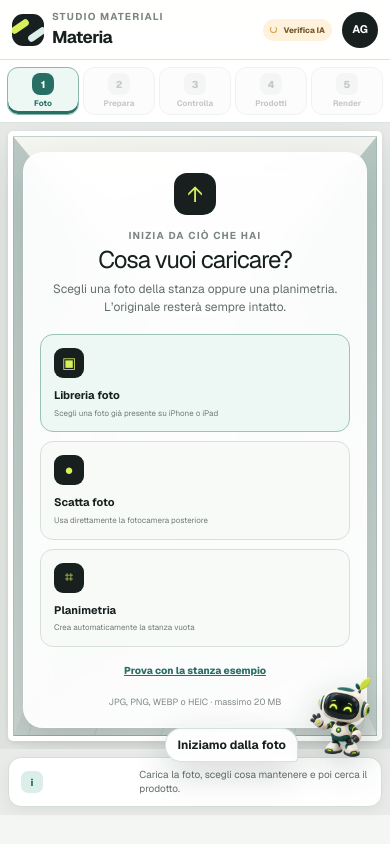
Test: RoomStudio › asks for a manual target when Terra sees furniture but Grok has no safe polygon
Click the button "Prova con la stanza esempio". click: click(195, 670)
box: [113,656,277,685]
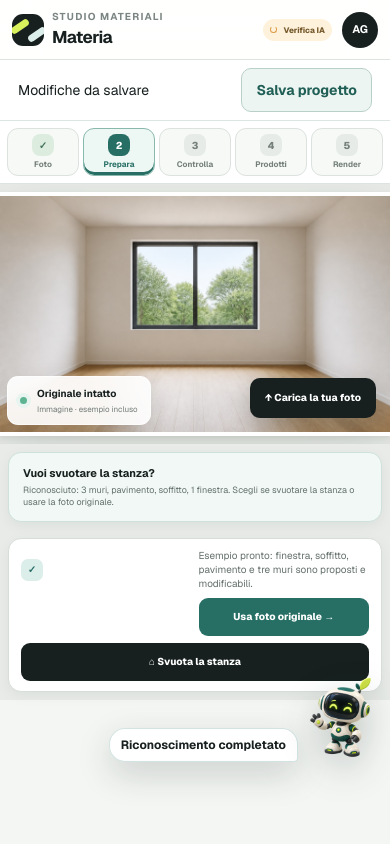
Click the button "⌂ Svuota la stanza". click: click(195, 662)
box: [21,642,369,680]
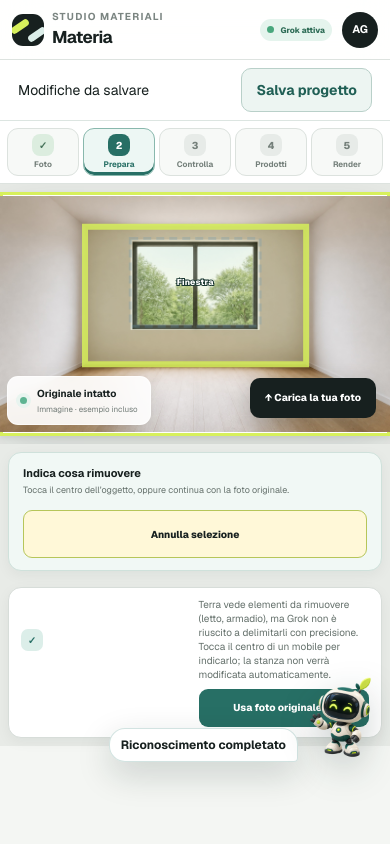
Now the text "Terra vede elementi da rimuovere (letto, armadio)" is shown, box [198,598,358,681]
Now the button "Annulla selezione" is shown, box [23,510,367,558]
